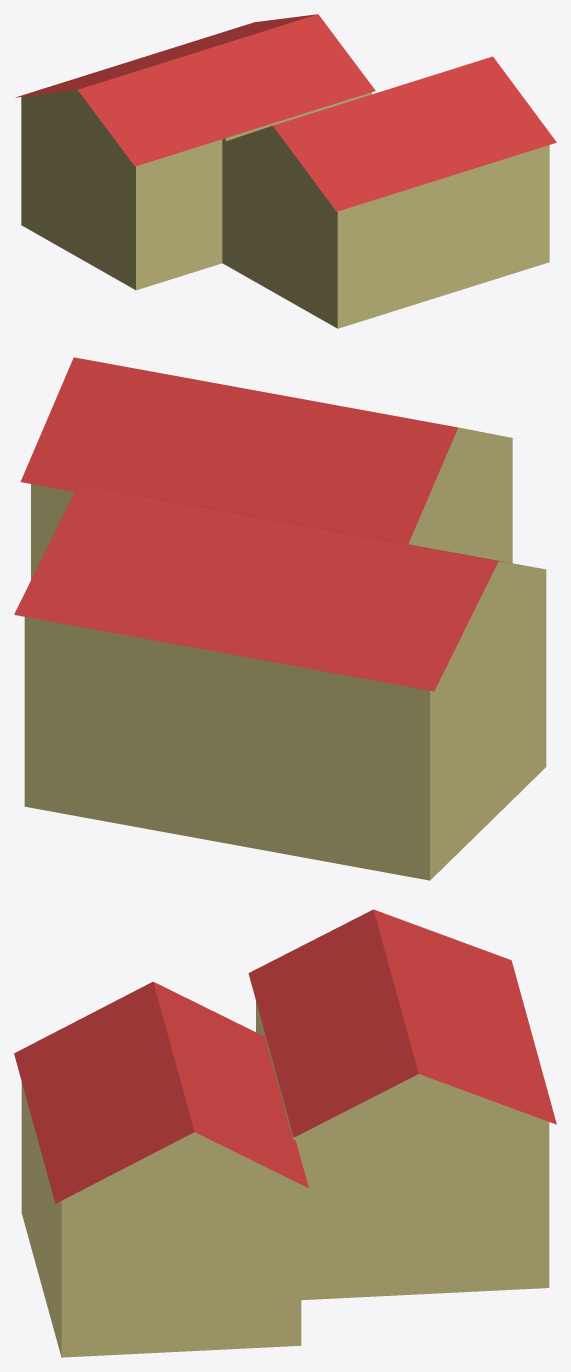
The picture shows the model from 3 angles, top to bottom: view 1: azimuth 30°, elevation 25°; view 2: azimuth 150°, elevation 25°; view 3: azimuth 270°, elevation 25°; orthographic projection. The views are drawn at different scales.
Size of the model in its own units: 20.2 by 19.74 by 8.96.
